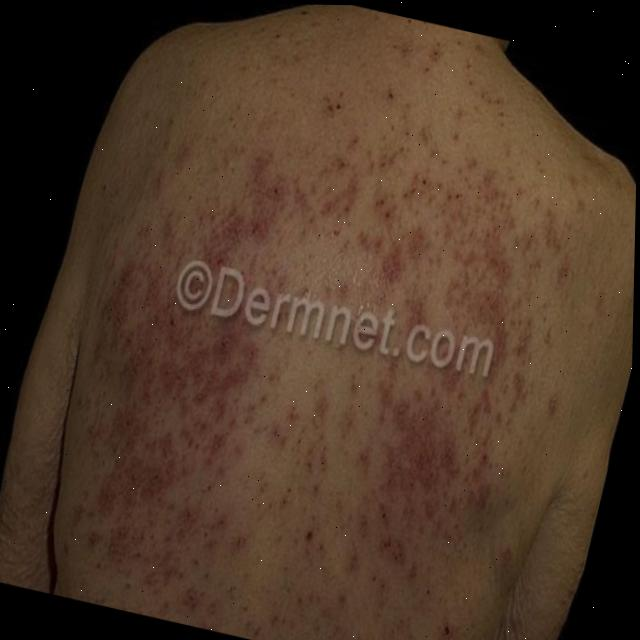Eczema: (25, 46, 582, 640)
